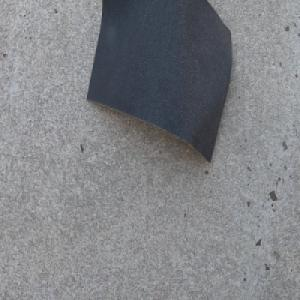PaintChip: (86, 0, 232, 165)
